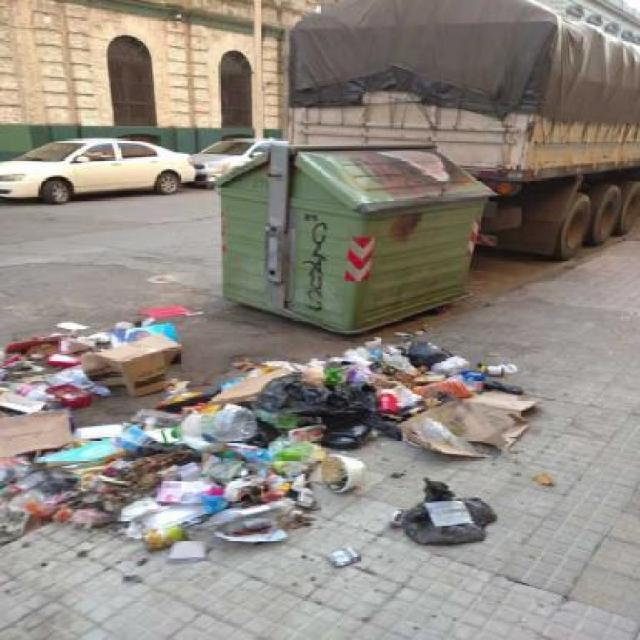garbage: (3, 294, 568, 596)
